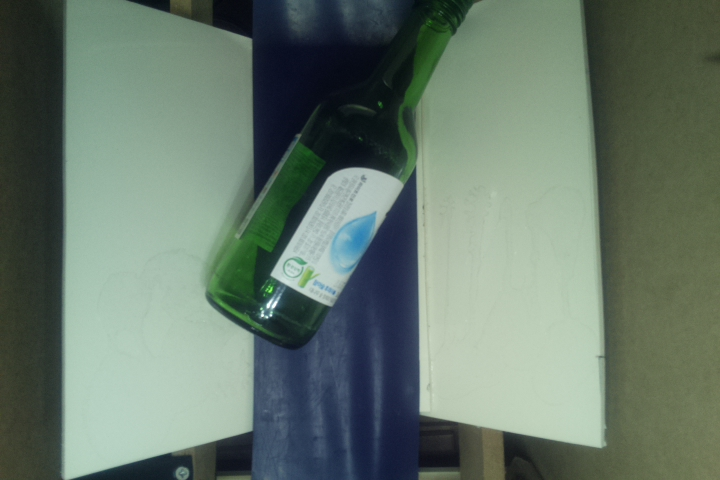soju: (206, 1, 479, 349)
